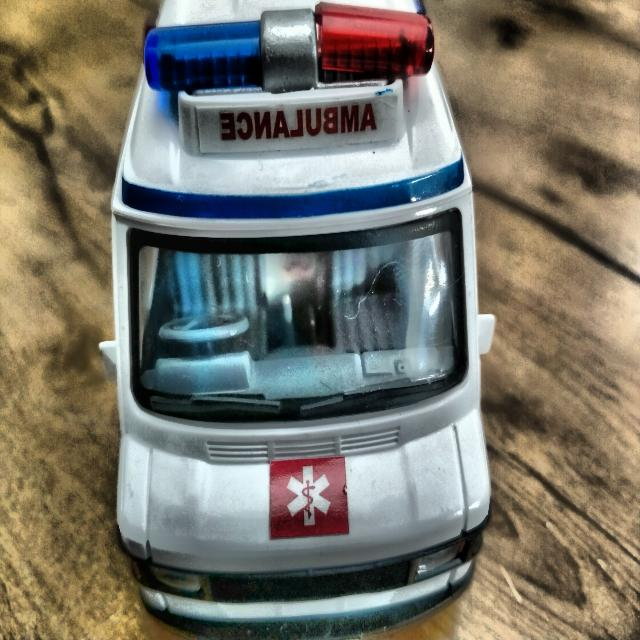Ambulance: (93, 2, 500, 630)
